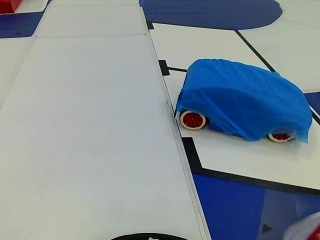car: (170, 53, 318, 142)
